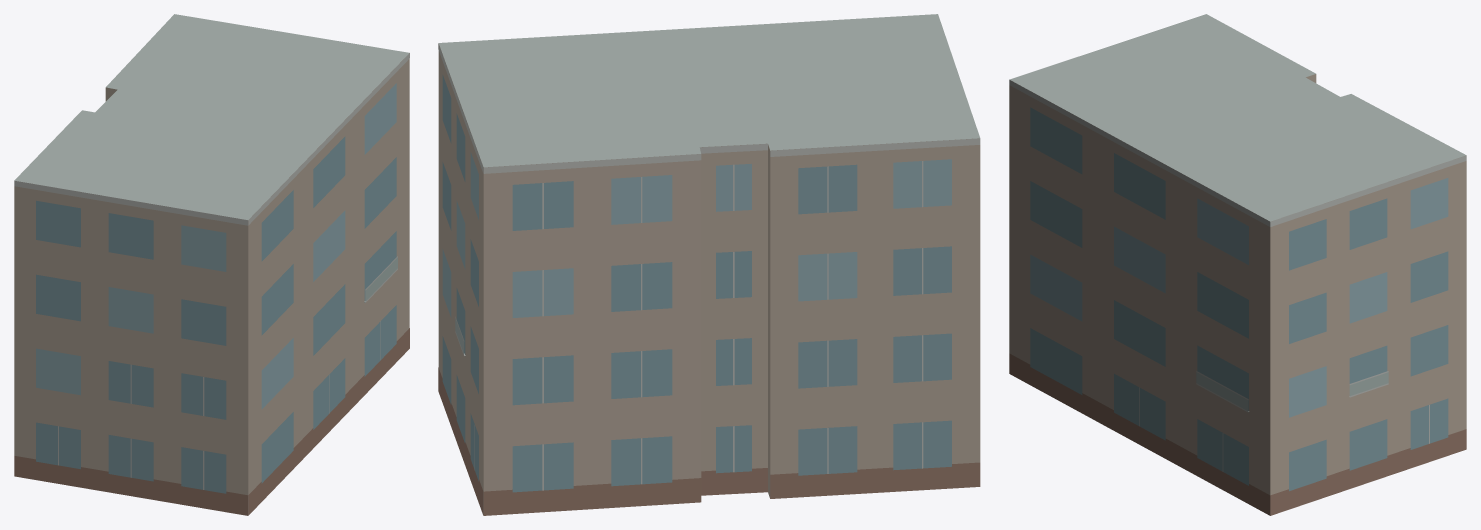
File: survey-upis-32732696.glb
3 renders of one model, left to right at view 1: azimuth 30°, elevation 25°; view 2: azimuth 150°, elevation 25°; view 3: azimuth 270°, elevation 25°, orthographic. The views are drawn at different scales.
Parts seen in each view (by area): view 1: survey-upis-32732696.tmp; view 2: survey-upis-32732696.tmp; view 3: survey-upis-32732696.tmp.
Part boxes in pixels (<box>): survey-upis-32732696.tmp: <box>14,14,409,515</box>; survey-upis-32732696.tmp: <box>438,14,980,515</box>; survey-upis-32732696.tmp: <box>1009,14,1466,515</box>.
Bounding box in the file's own units: 19.68 × 13 × 18.32.
